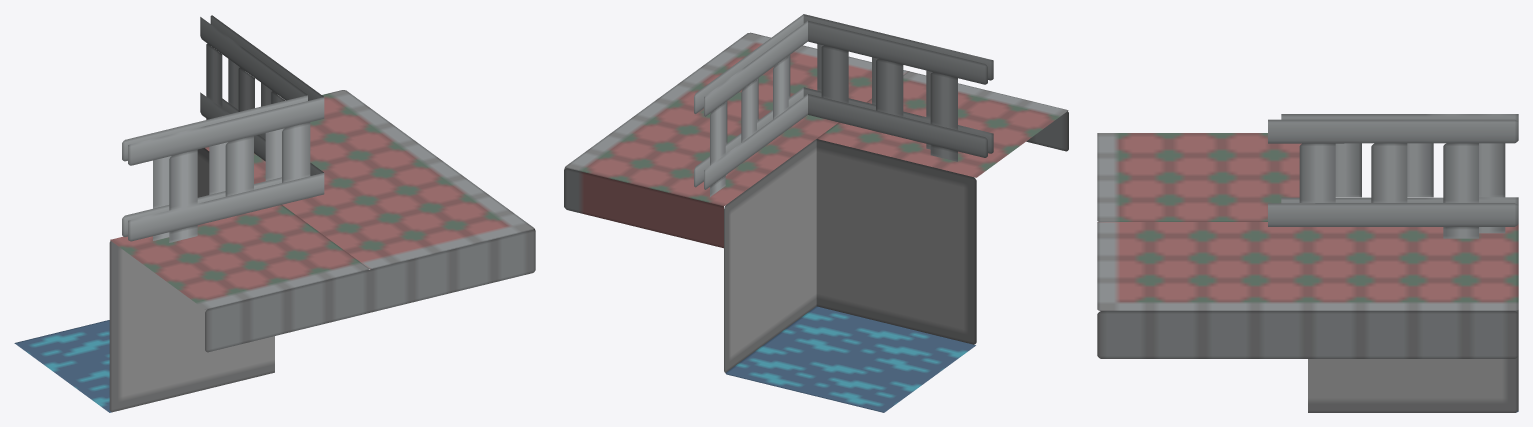
The model's file is Lake Corner.fbx.
The picture shows the model from 3 angles, left to right: view 1: azimuth 30°, elevation 25°; view 2: azimuth 150°, elevation 25°; view 3: azimuth 270°, elevation 25°; orthographic projection. The views are drawn at different scales.
Visible parts, largest first — view 1: SideRoad, plane, plane_2, plane_1; view 2: plane, SideRoad, plane_1, plane_2; view 3: SideRoad, plane_2, plane, plane_1.
Part boxes in pixels (x1=…): SideRoad: x1=110, y1=90, x2=535, y2=352; plane: x1=14, y1=148, x2=274, y2=412; plane_2: x1=128, y1=15, x2=324, y2=242; plane_1: x1=122, y1=17, x2=307, y2=240; plane: x1=724, y1=139, x2=976, y2=412; SideRoad: x1=564, y1=32, x2=1068, y2=248; plane_1: x1=704, y1=20, x2=987, y2=196; plane_2: x1=694, y1=14, x2=993, y2=187; SideRoad: x1=1097, y1=133, x2=1518, y2=358; plane_2: x1=1268, y1=119, x2=1518, y2=238; plane: x1=1308, y1=310, x2=1518, y2=412; plane_1: x1=1281, y1=114, x2=1518, y2=233.
Size of the model in its own units: 200 by 163 by 200.
Materials: 2 (2 with a texture image).
